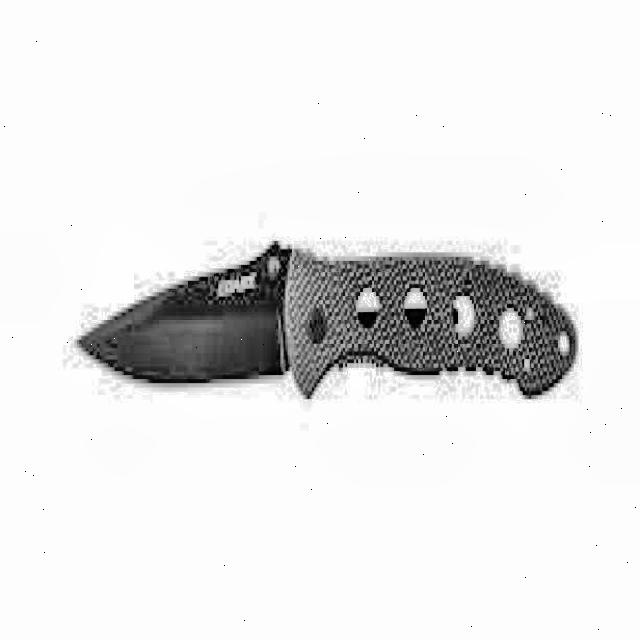knife: (69, 238, 580, 420)
